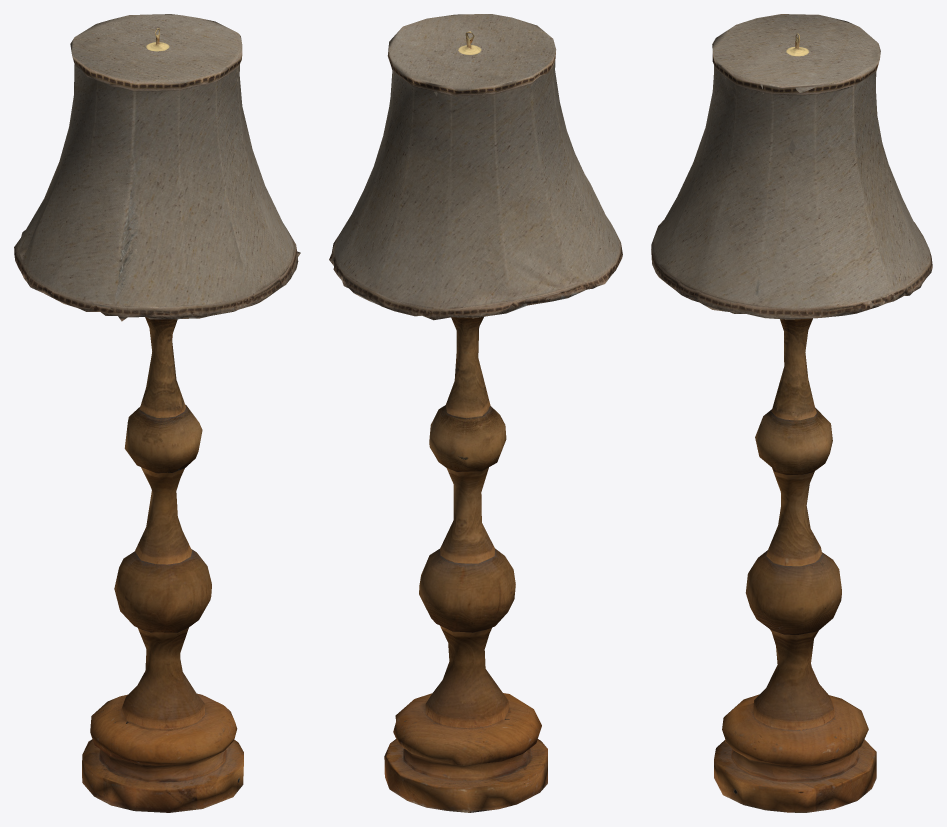
Rendered from 504_wooden_floor_lamp.glb.
The picture shows the model from 3 angles, left to right: view 1: azimuth 30°, elevation 25°; view 2: azimuth 150°, elevation 25°; view 3: azimuth 270°, elevation 25°; orthographic projection.
Visible parts, largest first — view 1: vi5hbjgga_LOD0_TIER3_001, vi5hbjgga_LOD0_TIER3_000; view 2: vi5hbjgga_LOD0_TIER3_001, vi5hbjgga_LOD0_TIER3_000; view 3: vi5hbjgga_LOD0_TIER3_001, vi5hbjgga_LOD0_TIER3_000.
Boxes of the visible parts, left/top/right/bottom form: vi5hbjgga_LOD0_TIER3_001: left=14, top=14, right=300, bottom=321; vi5hbjgga_LOD0_TIER3_000: left=82, top=317, right=243, bottom=812; vi5hbjgga_LOD0_TIER3_001: left=329, top=14, right=622, bottom=320; vi5hbjgga_LOD0_TIER3_000: left=384, top=316, right=547, bottom=812; vi5hbjgga_LOD0_TIER3_001: left=651, top=14, right=932, bottom=319; vi5hbjgga_LOD0_TIER3_000: left=714, top=318, right=876, bottom=812.
Bounding box in the file's own units: 0.5742 × 1.64 × 0.5615.
Materials: 1 (1 with a texture image).
